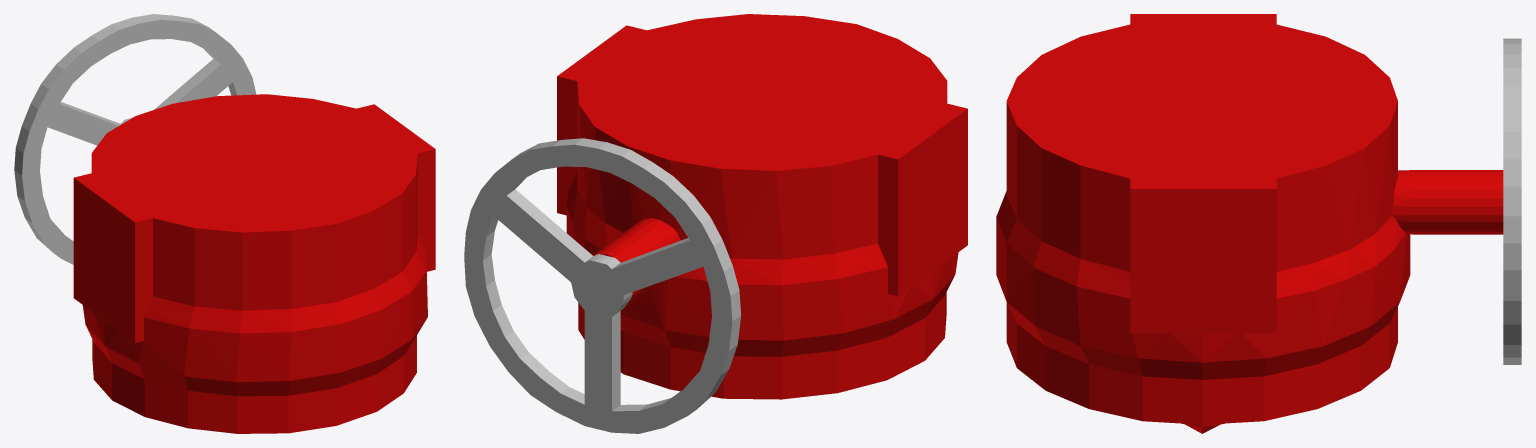
The picture shows the model from 3 angles, left to right: view 1: azimuth 30°, elevation 25°; view 2: azimuth 150°, elevation 25°; view 3: azimuth 270°, elevation 25°; orthographic projection. The views are drawn at different scales.
Bounding box in the file's own units: 0.2574 × 0.2433 × 0.3265.
